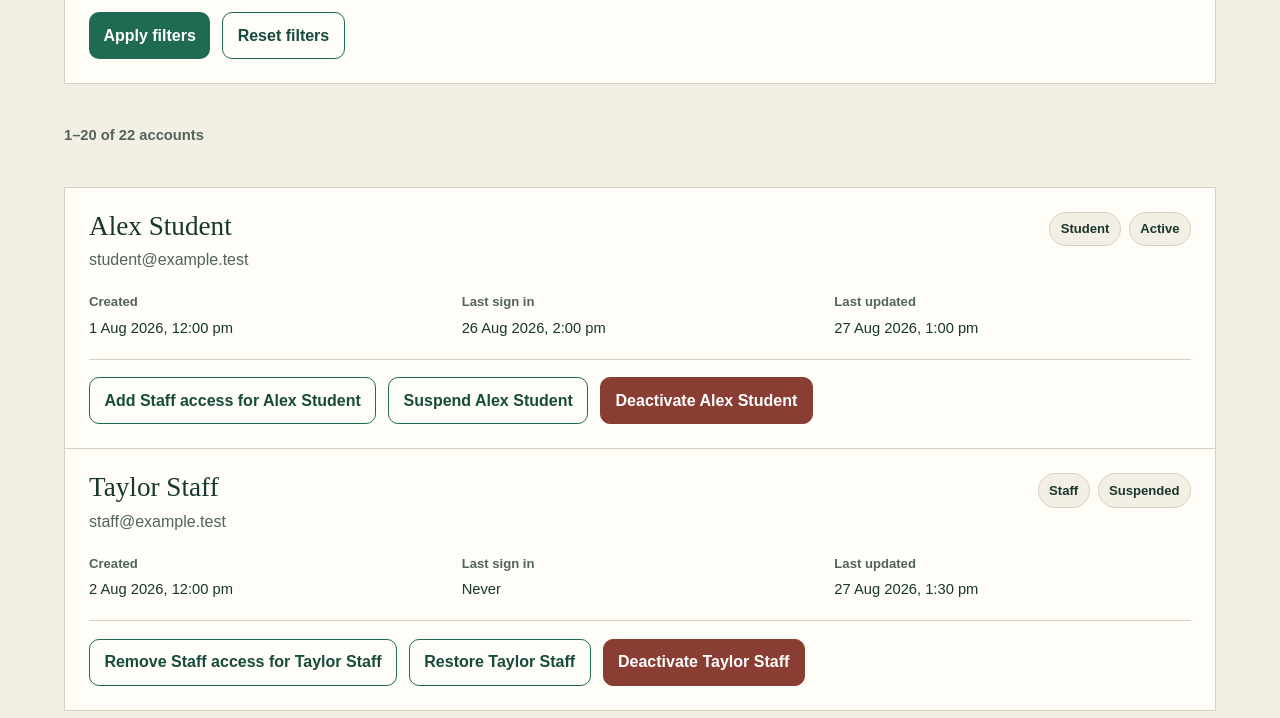
Test: lets an administrator add and remove Staff access with confirmation
(page scrolled)
Check: the heading "Alex Student" is shown, box x1=89 y1=212 x2=248 y2=242
Click the button "Add Staff access for Alex Student": (233, 401) x1=89 y1=377 x2=376 y2=424
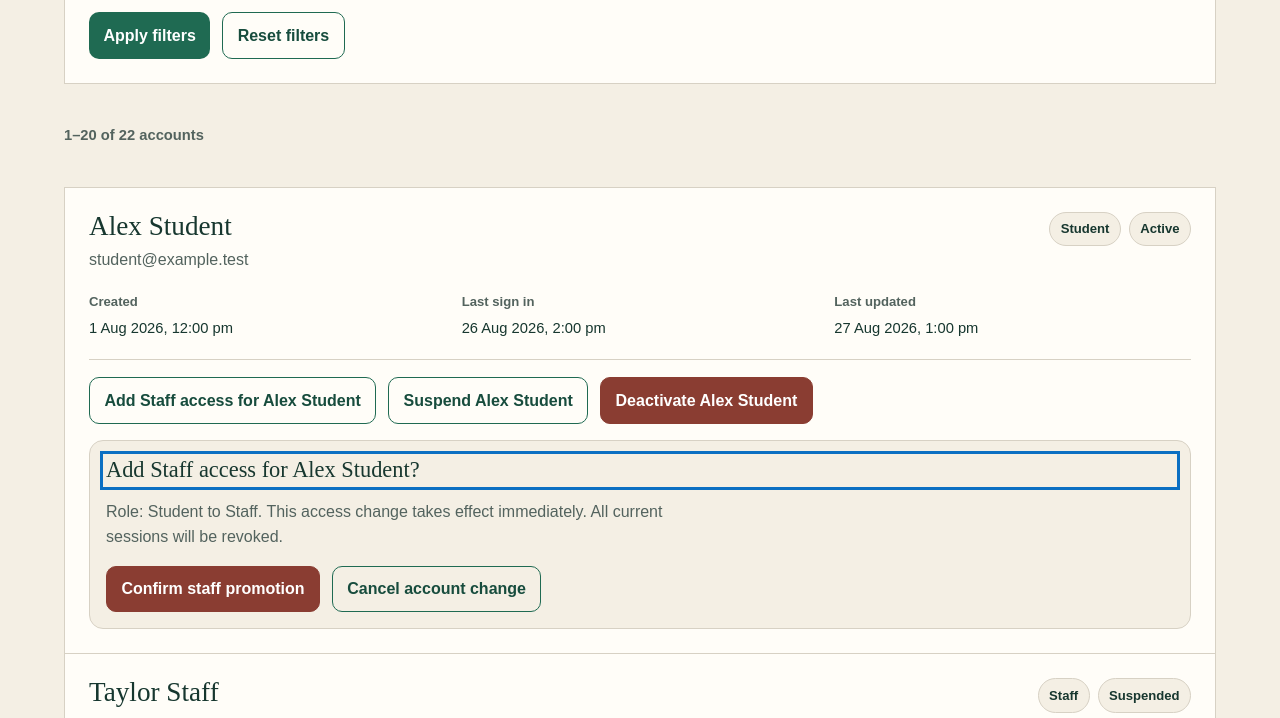
Check: the text "Student to Staff" is shown, box x1=106 y1=500 x2=711 y2=550
Click the button "Confirm staff promotion": (213, 589) x1=106 y1=566 x2=320 y2=612
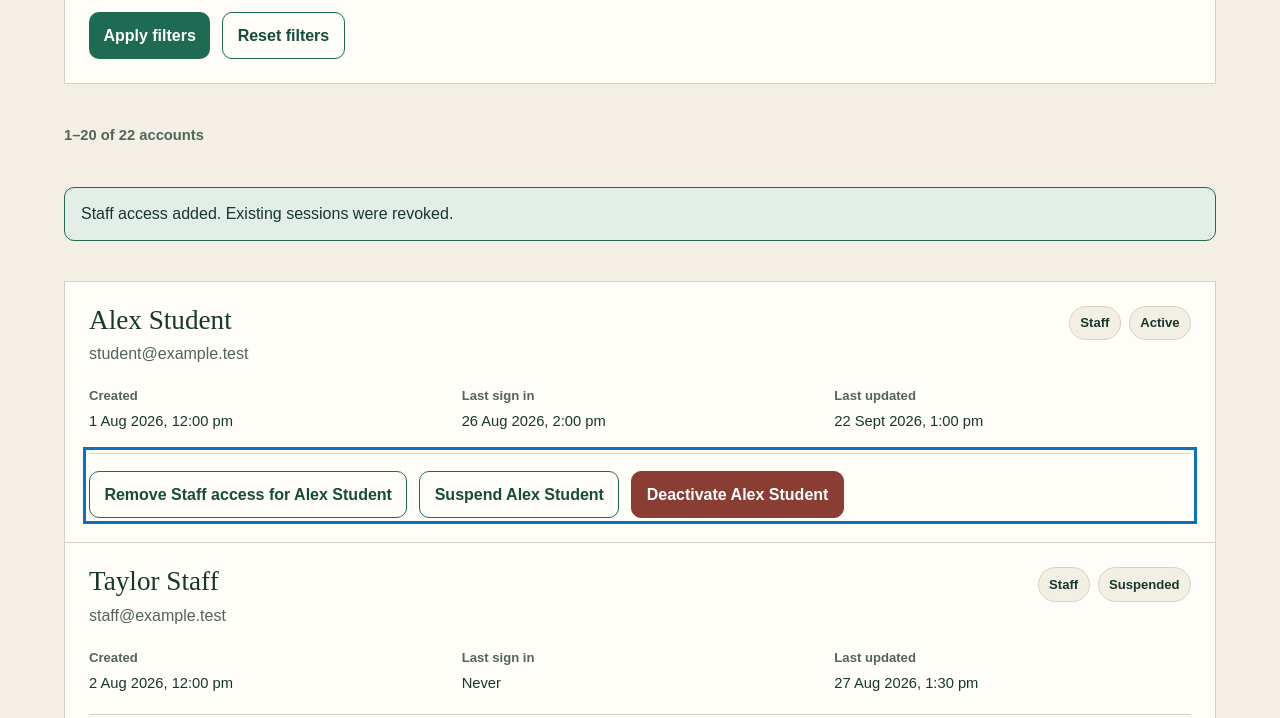
Check: the button "Remove Staff access for Alex Student" is shown, box x1=89 y1=471 x2=407 y2=518
Check: the text "Staff access added. Existing sessions were revoked." is shown, box x1=64 y1=187 x2=1216 y2=241
